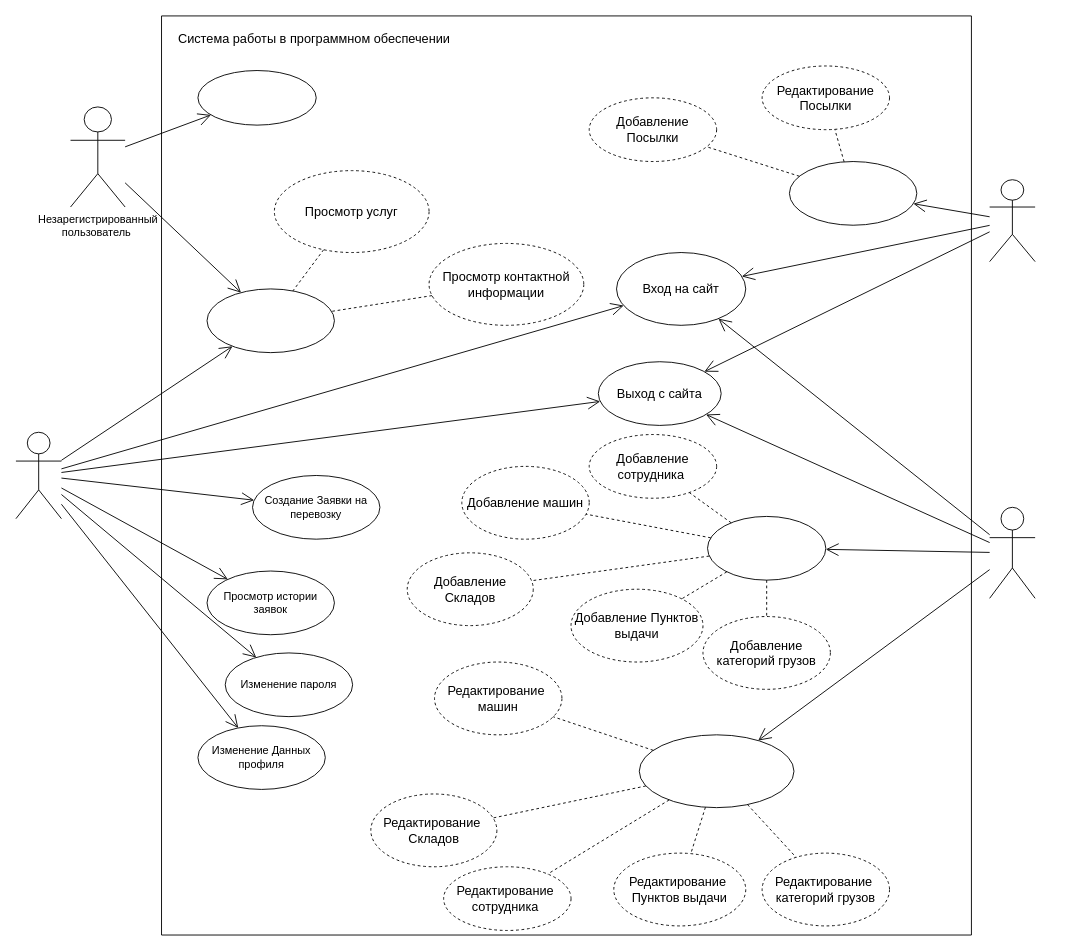
This 1067x951 diagram has some shape labels left out. Here are the shapes that lost their labels. From the top down, the centre of each, then its label:
At [256,97]: "Регистрация".
At [853,193]: "Работа с посылками".
At [1012,220]: "Сотрудник".
At [270,320]: "Просмотр".
At [38,475]: "Клиент".
At [766,548]: "Добавление записей в базу данных".
At [1012,552]: "Администратор".
At [716,771]: "Редактирование записей в базе данных".
